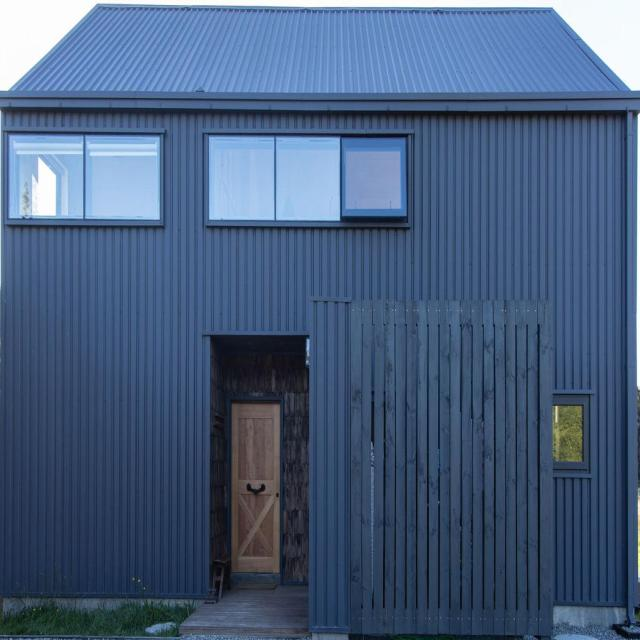door: (231, 398, 280, 577)
wall: (0, 2, 640, 638)
windows: (208, 136, 408, 224), (6, 132, 160, 221), (553, 406, 581, 460)
